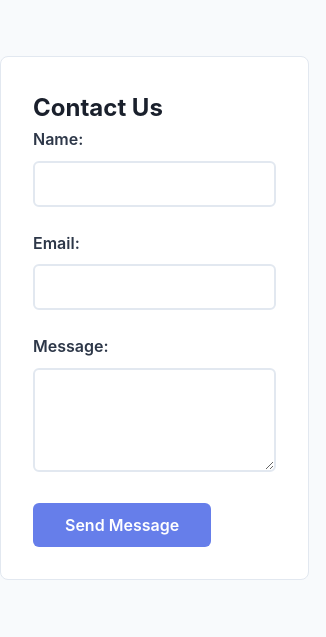
Test case: ContactForm Component › shows validation errors when submitting empty form
The image size is (326, 637).
What coordinates should you click on to do the following:
click the button "Send Message"
I would click on:
 (122, 525)
Its box is [33,503,211,547].
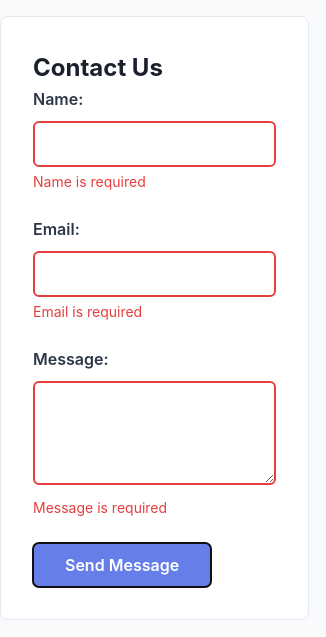
Now the text "Name is required" is shown, box [33,173,146,190]
Now the text "Email is required" is shown, box [33,303,142,320]
Now the text "Message is required" is shown, box [33,499,167,516]
